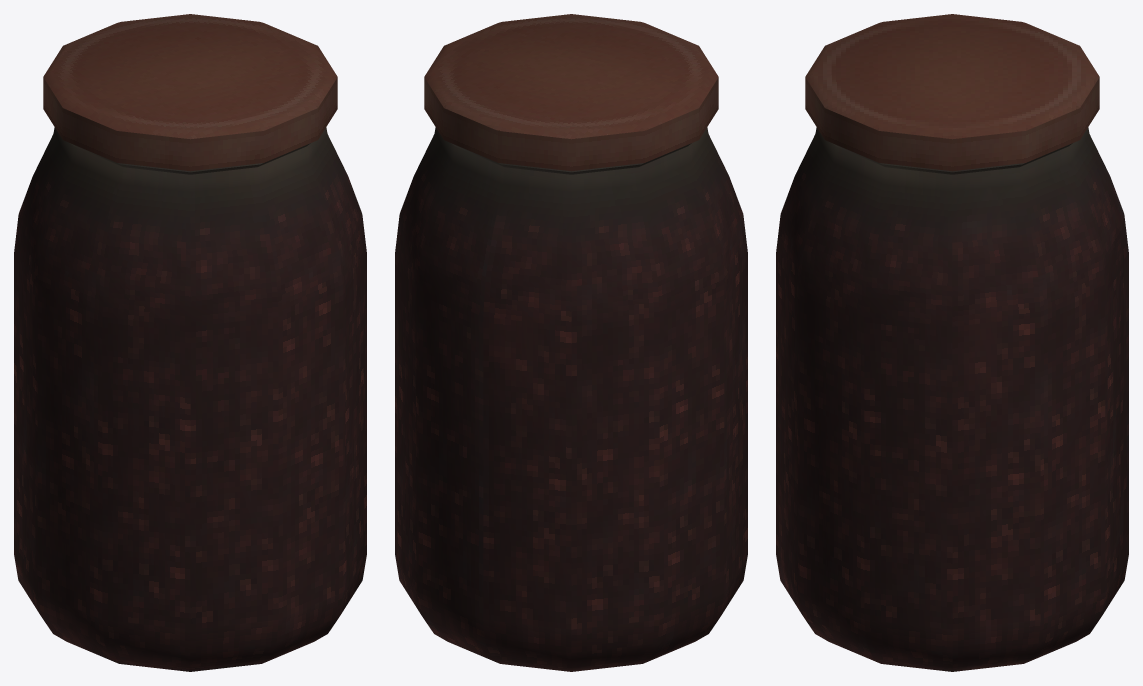
File: jam_jar_mp_1_medium.glb
3 renders of one model, left to right at view 1: azimuth 30°, elevation 25°; view 2: azimuth 150°, elevation 25°; view 3: azimuth 270°, elevation 25°, orthographic.
Visible parts, largest first — view 1: jam_jar_mp_1_medium; view 2: jam_jar_mp_1_medium; view 3: jam_jar_mp_1_medium.
Boxes of the visible parts, x1=… form: jam_jar_mp_1_medium: x1=14, y1=14, x2=366, y2=671; jam_jar_mp_1_medium: x1=395, y1=14, x2=747, y2=671; jam_jar_mp_1_medium: x1=776, y1=14, x2=1128, y2=671.
Size of the model in its own units: 0.1455 by 0.2453 by 0.1455.
Materials: 1 (1 with a texture image).
